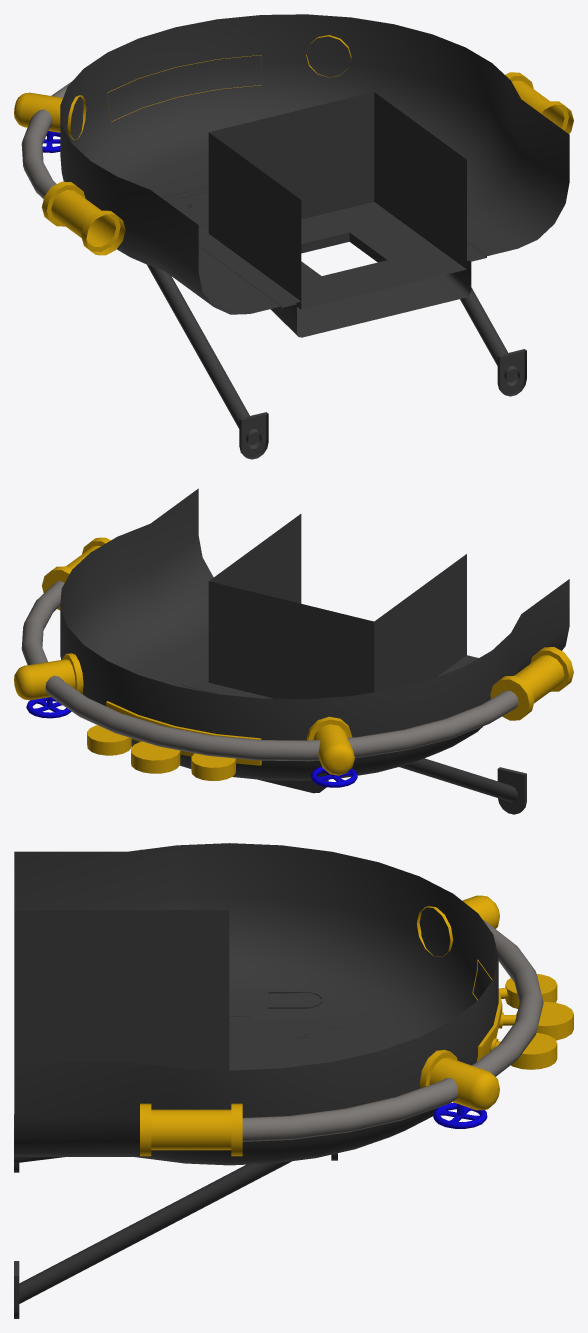
The model's file is SteamLocomotive_01_Furnace.fbx.
3 views of the same model, one above another, from view 1: azimuth 30°, elevation 25°; view 2: azimuth 150°, elevation 25°; view 3: azimuth 270°, elevation 25° (orthographic). The views are drawn at different scales.
Parts seen in each view (by area): view 1: SteamLocomotive_01_Furnace; view 2: SteamLocomotive_01_Furnace; view 3: SteamLocomotive_01_Furnace.
Boxes of the visible parts, <box> form: SteamLocomotive_01_Furnace: <box>14,14,573,459</box>; SteamLocomotive_01_Furnace: <box>14,488,573,814</box>; SteamLocomotive_01_Furnace: <box>14,843,573,1318</box>.
Bounding box in the file's own units: 2.71 × 1.31 × 2.32.
